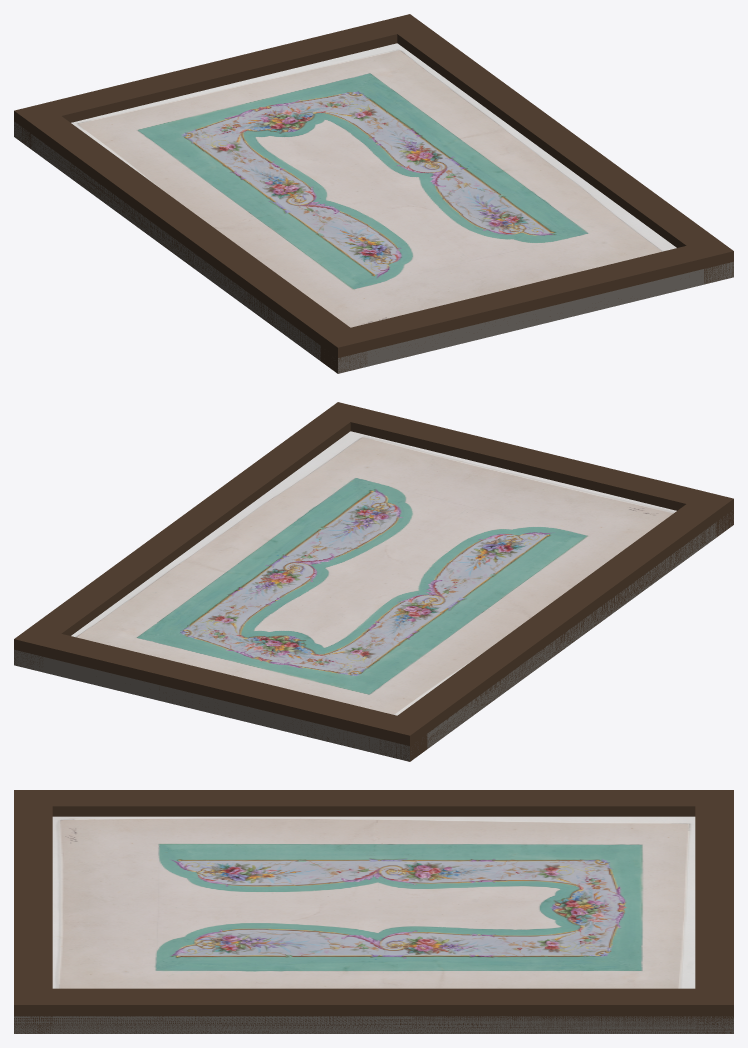
The model's file is framed_artwork.glb.
3 views of the same model, one above another, from view 1: azimuth 30°, elevation 25°; view 2: azimuth 150°, elevation 25°; view 3: azimuth 270°, elevation 25° (orthographic). The views are drawn at different scales.
Parts seen in each view (by area): view 1: Artwork_Image_Front, Frame_Left, Frame_Right, Back_Board, Frame_Bottom, Frame_Top; view 2: Artwork_Image_Front, Frame_Left, Frame_Right, Back_Board, Frame_Top, Frame_Bottom; view 3: Artwork_Image_Front, Frame_Right, Frame_Left, Back_Board, Frame_Bottom, Frame_Top.
Part boxes in pixels (x1=…): Artwork_Image_Front: x1=71, y1=43, x2=676, y2=327; Frame_Left: x1=14, y1=103, x2=367, y2=373; Frame_Right: x1=380, y1=14, x2=733, y2=284; Back_Board: x1=14, y1=121, x2=733, y2=373; Frame_Bottom: x1=320, y1=238, x2=733, y2=373; Frame_Top: x1=14, y1=15, x2=426, y2=148; Artwork_Image_Front: x1=71, y1=431, x2=676, y2=715; Frame_Left: x1=380, y1=491, x2=732, y2=761; Frame_Right: x1=14, y1=402, x2=367, y2=670; Back_Board: x1=14, y1=510, x2=733, y2=761; Frame_Top: x1=21, y1=628, x2=427, y2=761; Frame_Bottom: x1=321, y1=402, x2=733, y2=536; Artwork_Image_Front: x1=52, y1=816, x2=695, y2=988; Frame_Right: x1=14, y1=988, x2=733, y2=1033; Frame_Left: x1=14, y1=790, x2=733, y2=816; Back_Board: x1=14, y1=1016, x2=733, y2=1033; Frame_Bottom: x1=14, y1=790, x2=52, y2=1033; Frame_Top: x1=695, y1=790, x2=733, y2=1033.
Bounding box in the file's own units: 1.58 × 0.1 × 2.24.
Materials: 3 (1 with a texture image).
